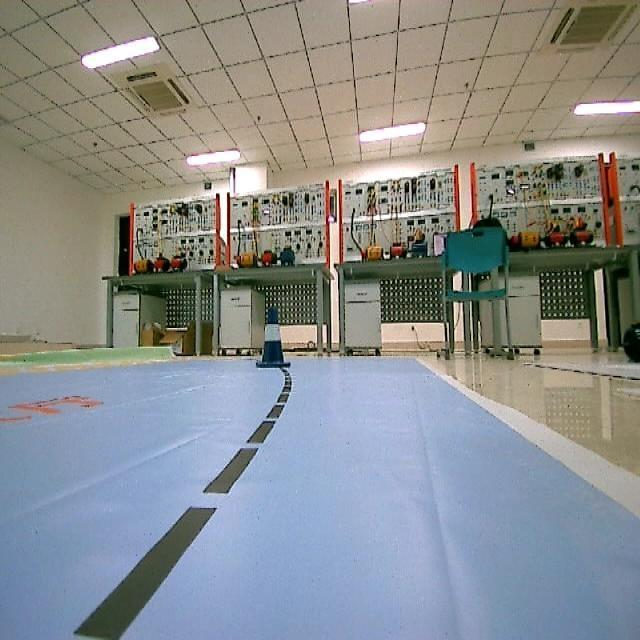obstacle: (249, 304, 305, 372)
